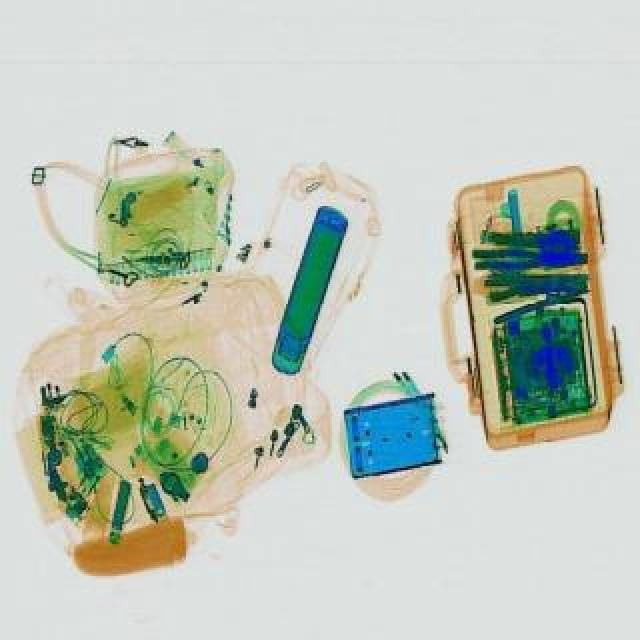wrench: (472, 244, 586, 268)
